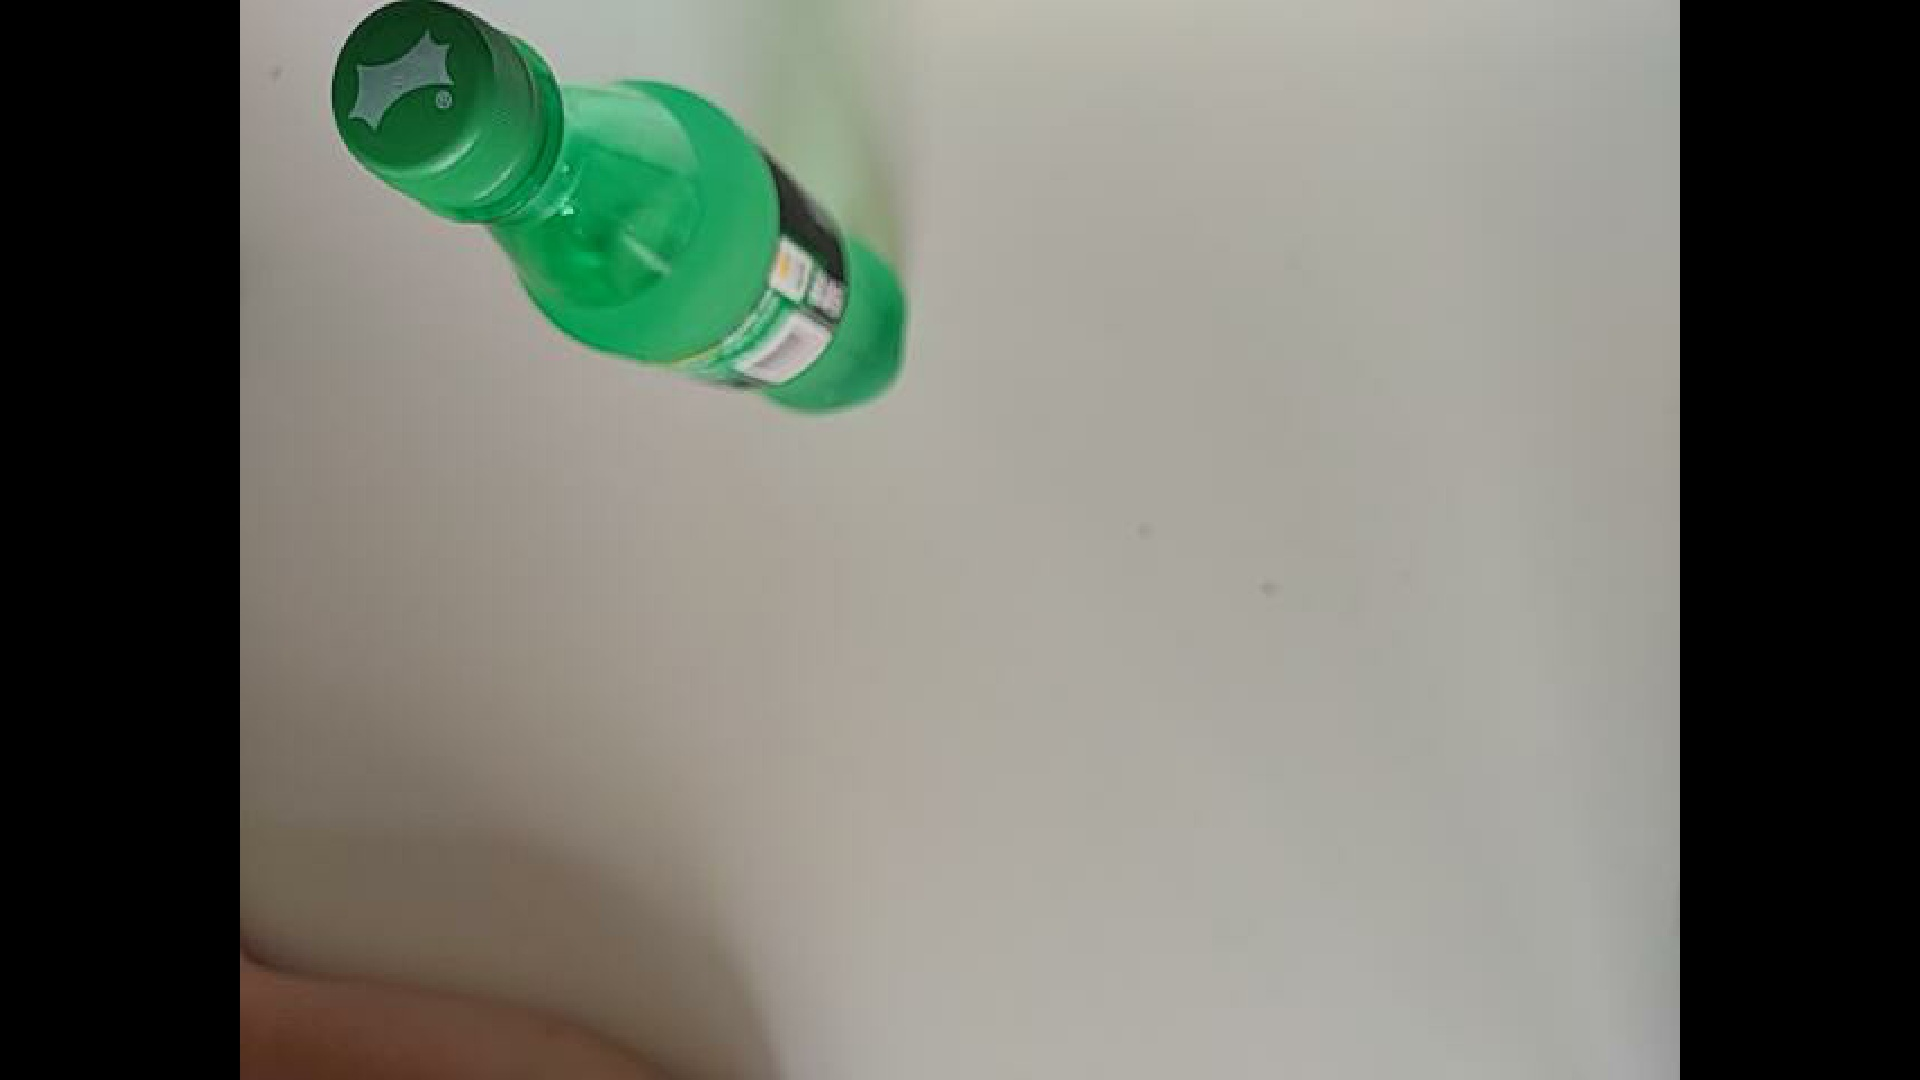sprite: (330, 0, 908, 419)
